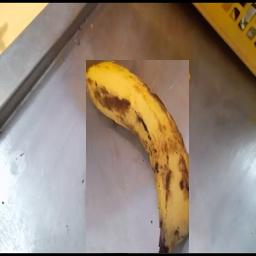Banana Semirotten: (86, 61, 189, 253)
